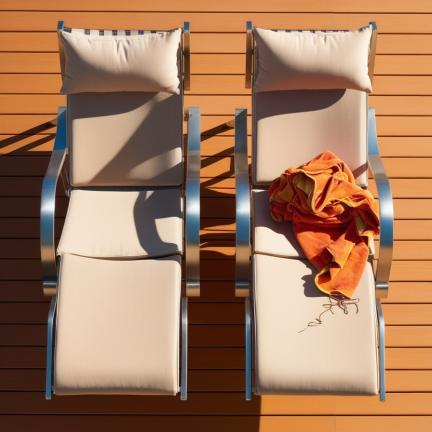empty chair: (38, 19, 202, 401)
occupied chair: (235, 24, 393, 400)
